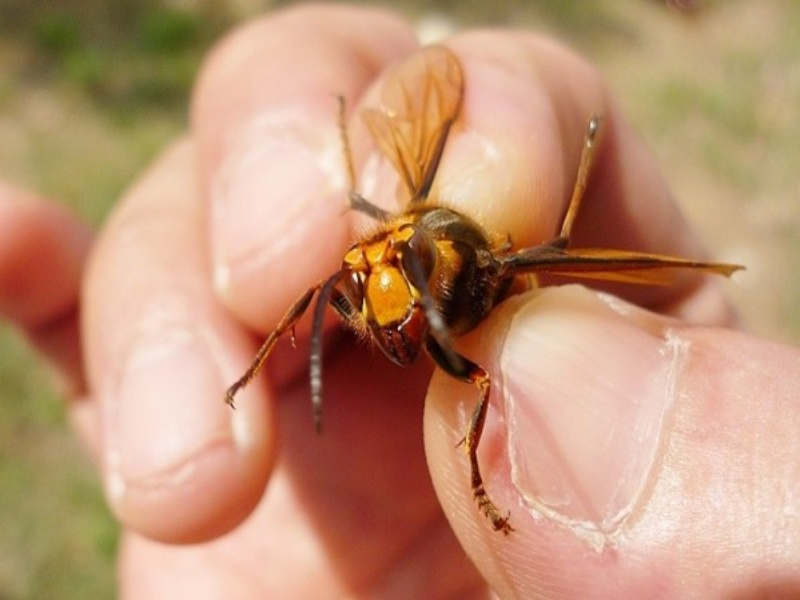asian_giant_hornet: (224, 117, 605, 408)
